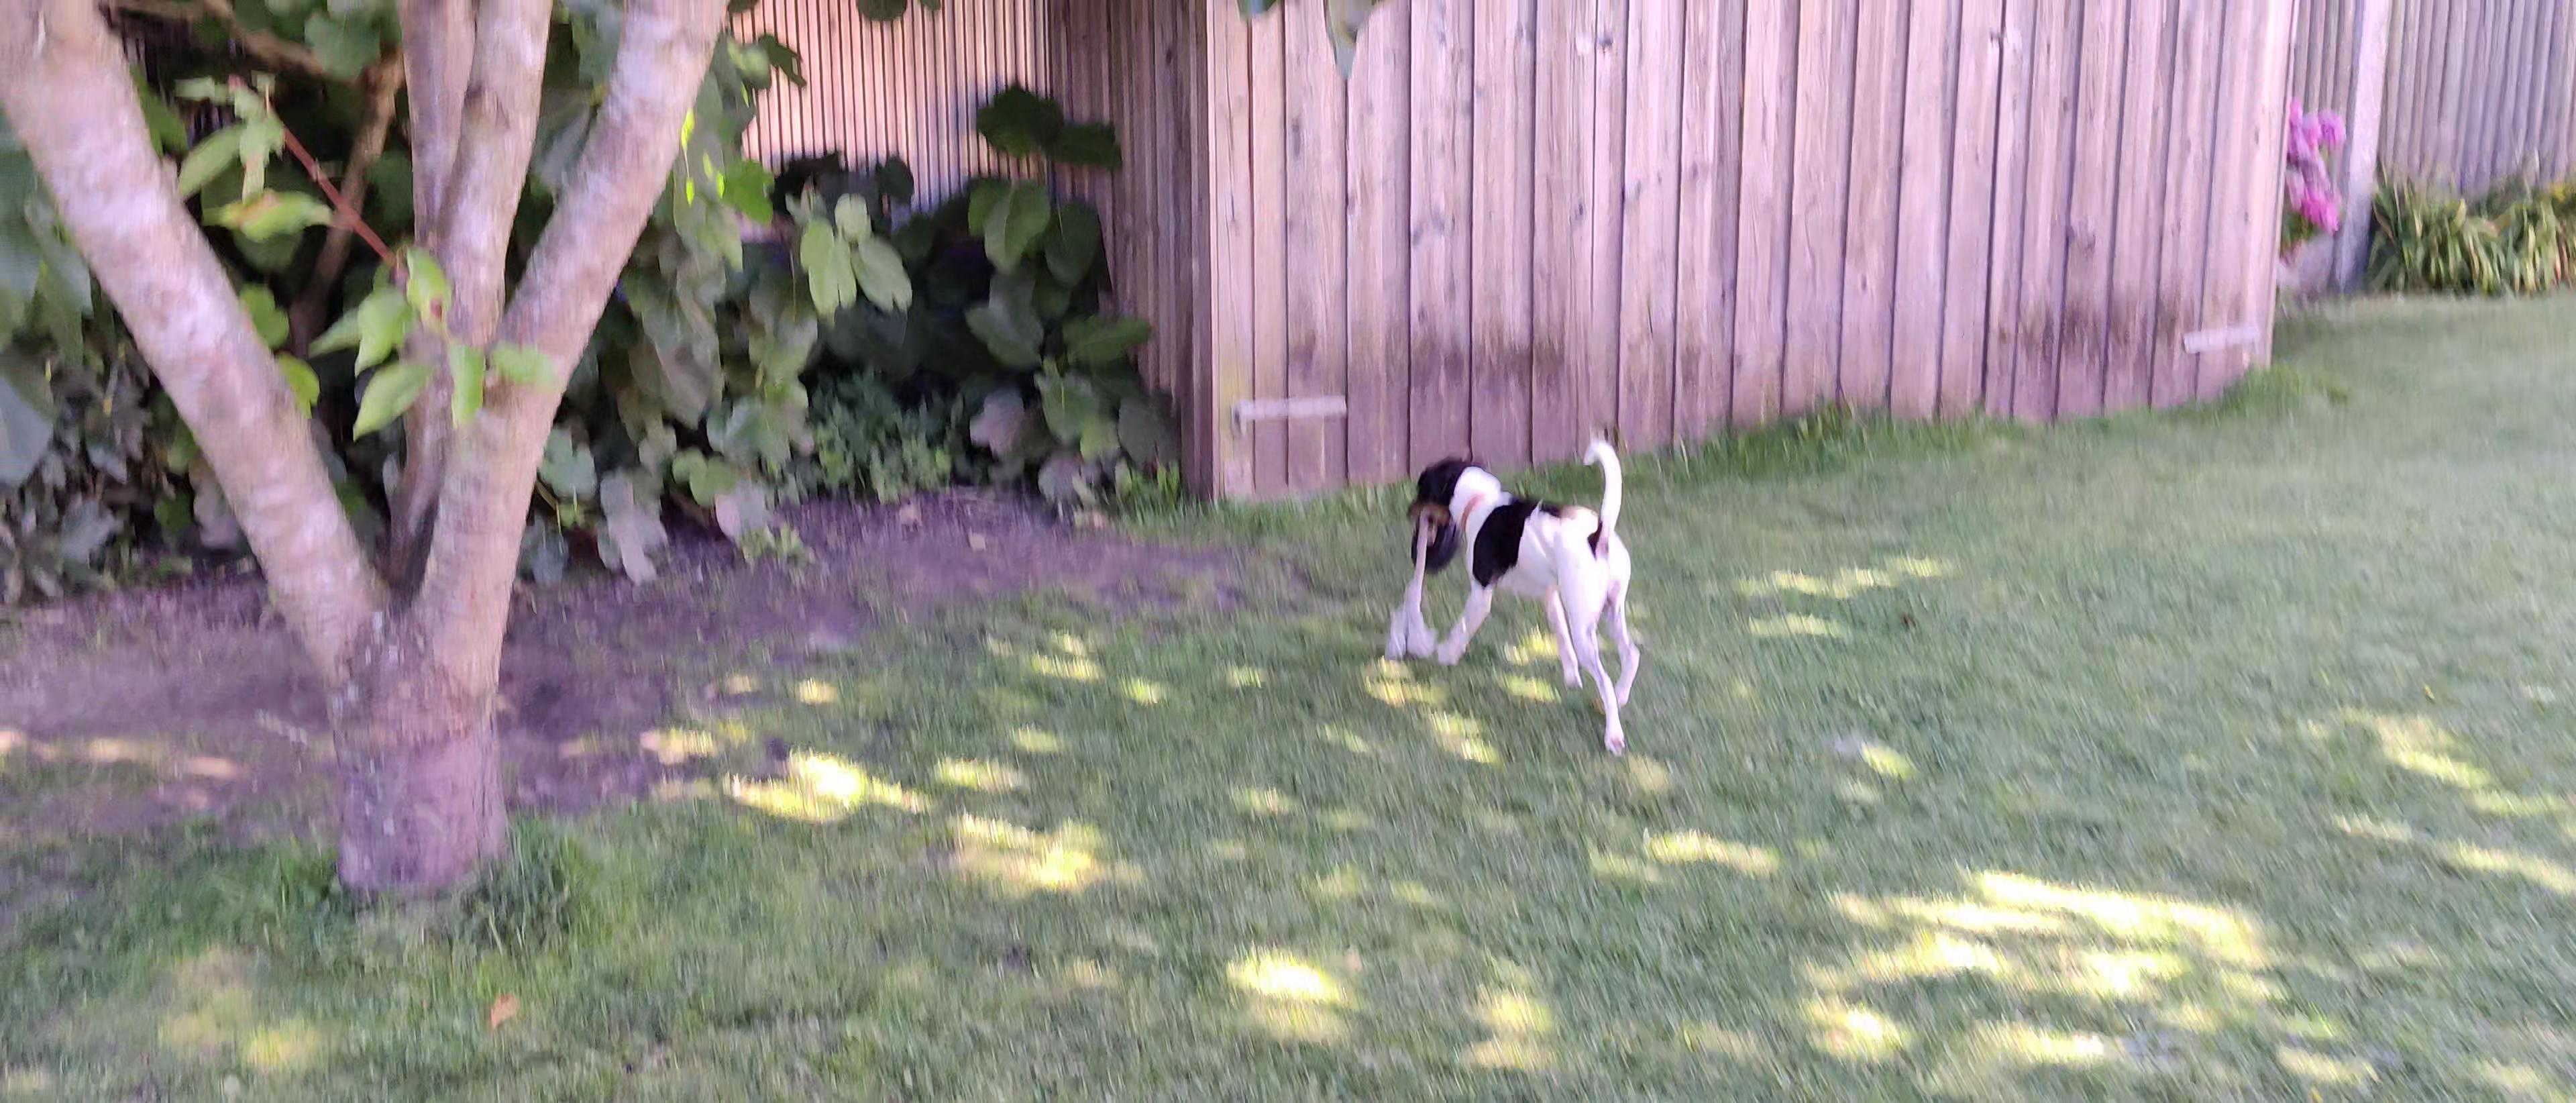Dog: (1401, 434, 1643, 759)
